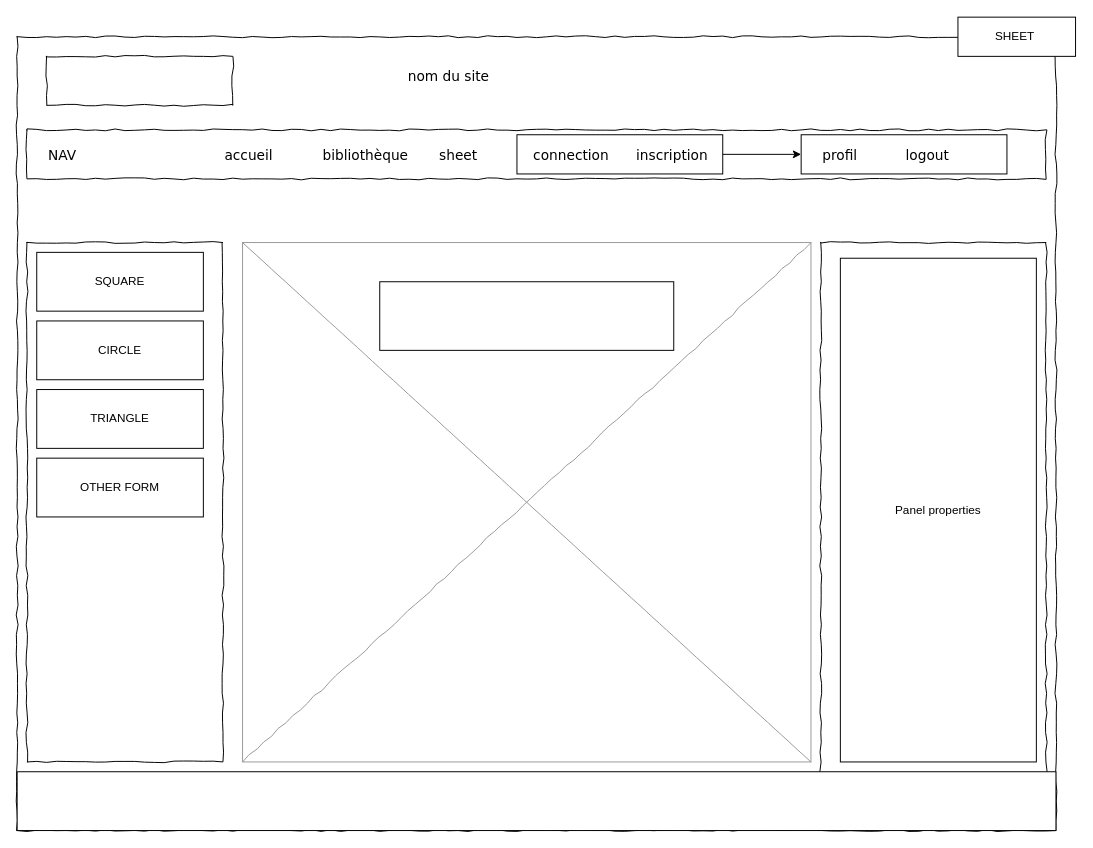
Some shapes in this 1093 by 848 pixel diagram are drawn without their labels. Each missing label, with the box of its shape:
Footer: (16, 771, 1056, 831)
LOGO: (46, 55, 233, 105)
Zone de dessin: (379, 281, 674, 350)
